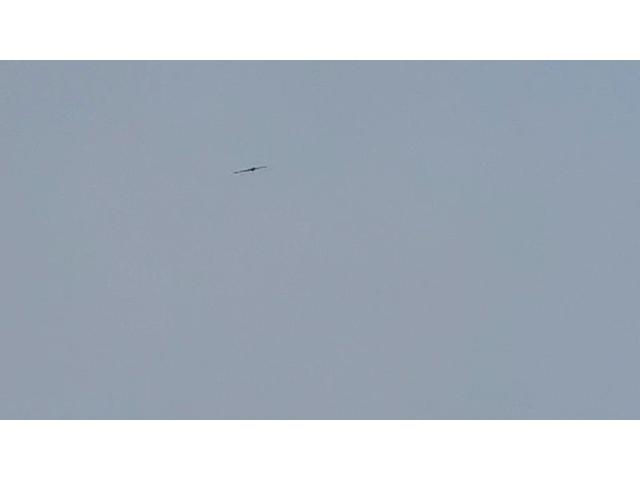Anti-Drone: (232, 164, 270, 176)
